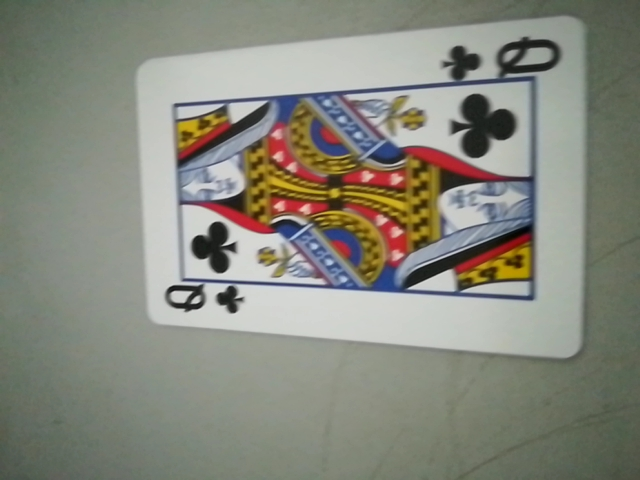mh q: (436, 31, 565, 85), (158, 275, 247, 326)
